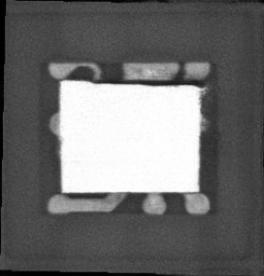DIE_BROKEN: (90, 76, 204, 89)
